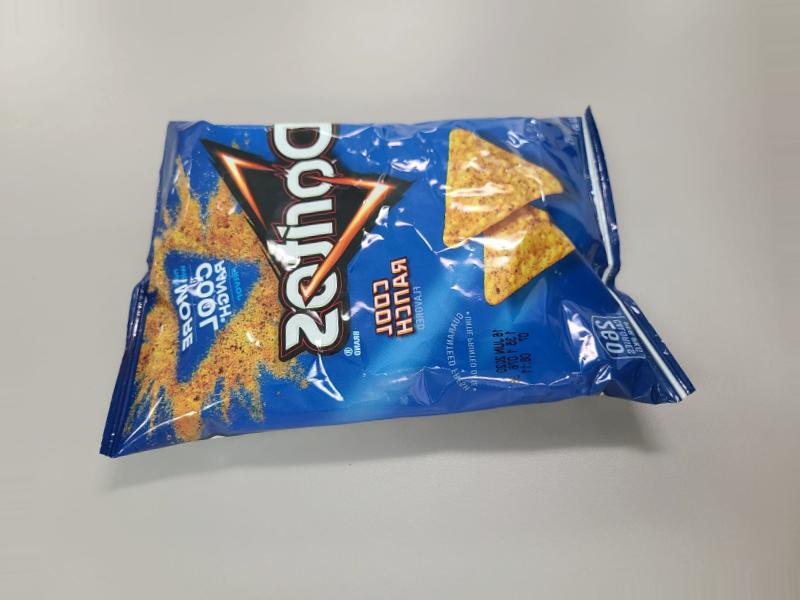doritos: (155, 101, 694, 457)
